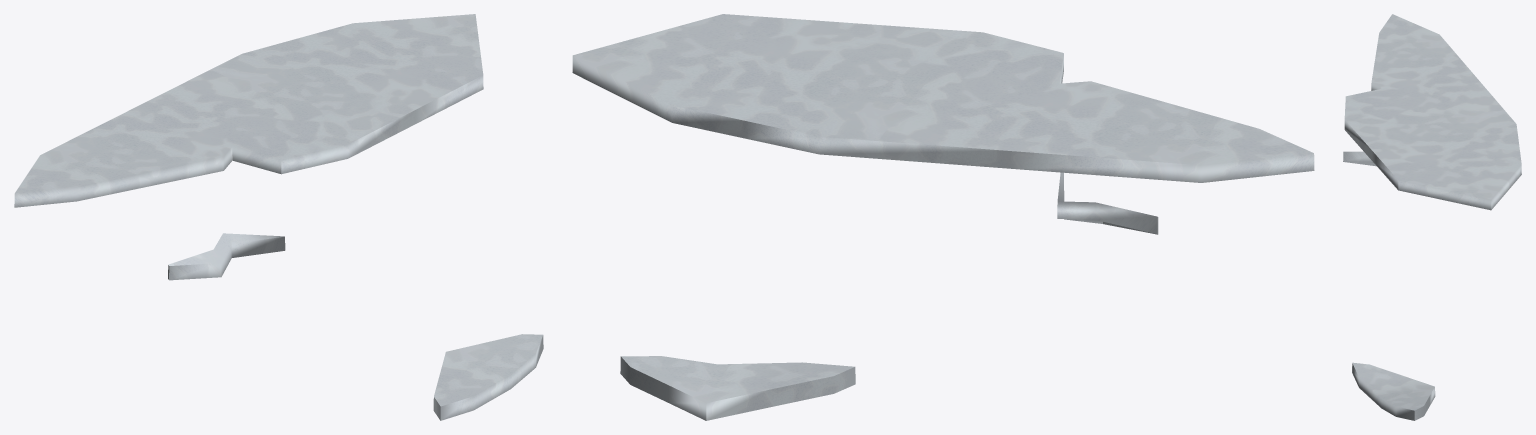
The model's file is Cliff_3_Snow.fbx.
3 views of the same model, side by side, from view 1: azimuth 30°, elevation 25°; view 2: azimuth 150°, elevation 25°; view 3: azimuth 270°, elevation 25° (orthographic). The views are drawn at different scales.
Parts seen in each view (by area): view 1: Cliff_3_Snow; view 2: Cliff_3_Snow; view 3: Cliff_3_Snow.
Boxes of the visible parts, x1,y1,x2,y2 form: Cliff_3_Snow: (14, 14, 543, 420); Cliff_3_Snow: (572, 14, 1314, 420); Cliff_3_Snow: (1343, 14, 1521, 420).
Bounding box in the file's own units: 3223 × 1750 × 1272.
